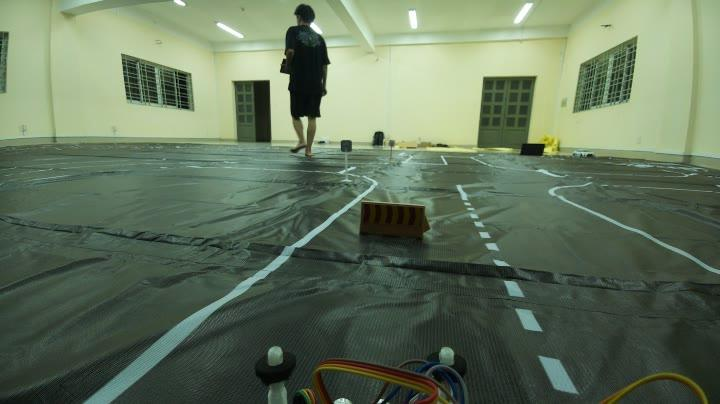roadblock: (352, 186, 445, 256)
